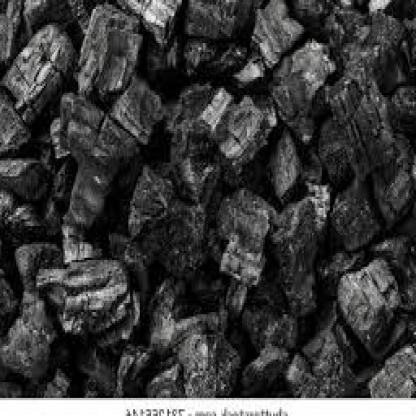Sedimentary_coal: (330, 256, 408, 348), (205, 88, 284, 170), (222, 201, 278, 296), (278, 41, 341, 106)
